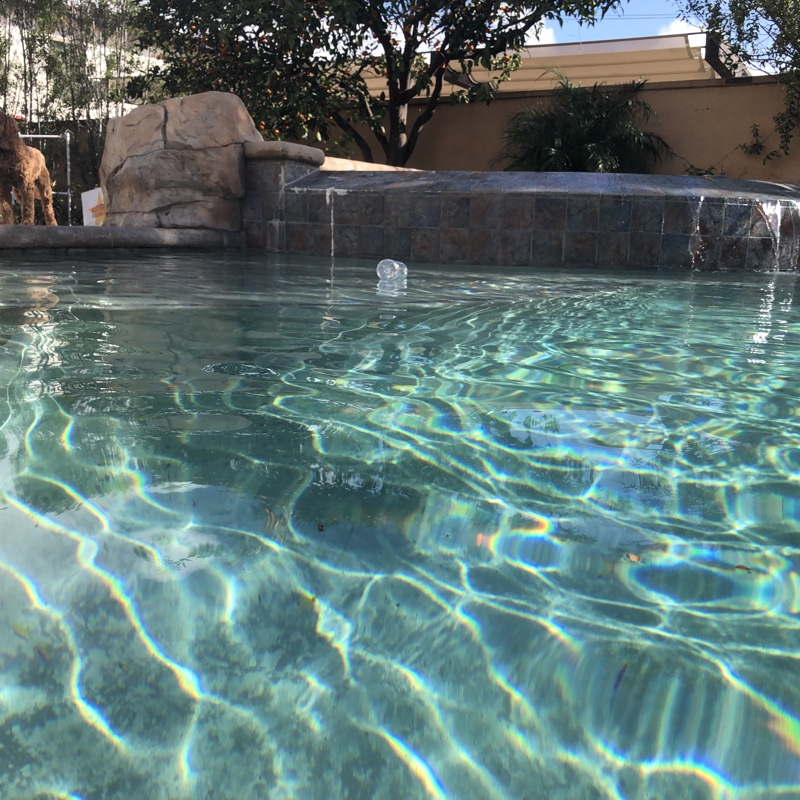Plastic Bottle: (374, 257, 411, 286)
